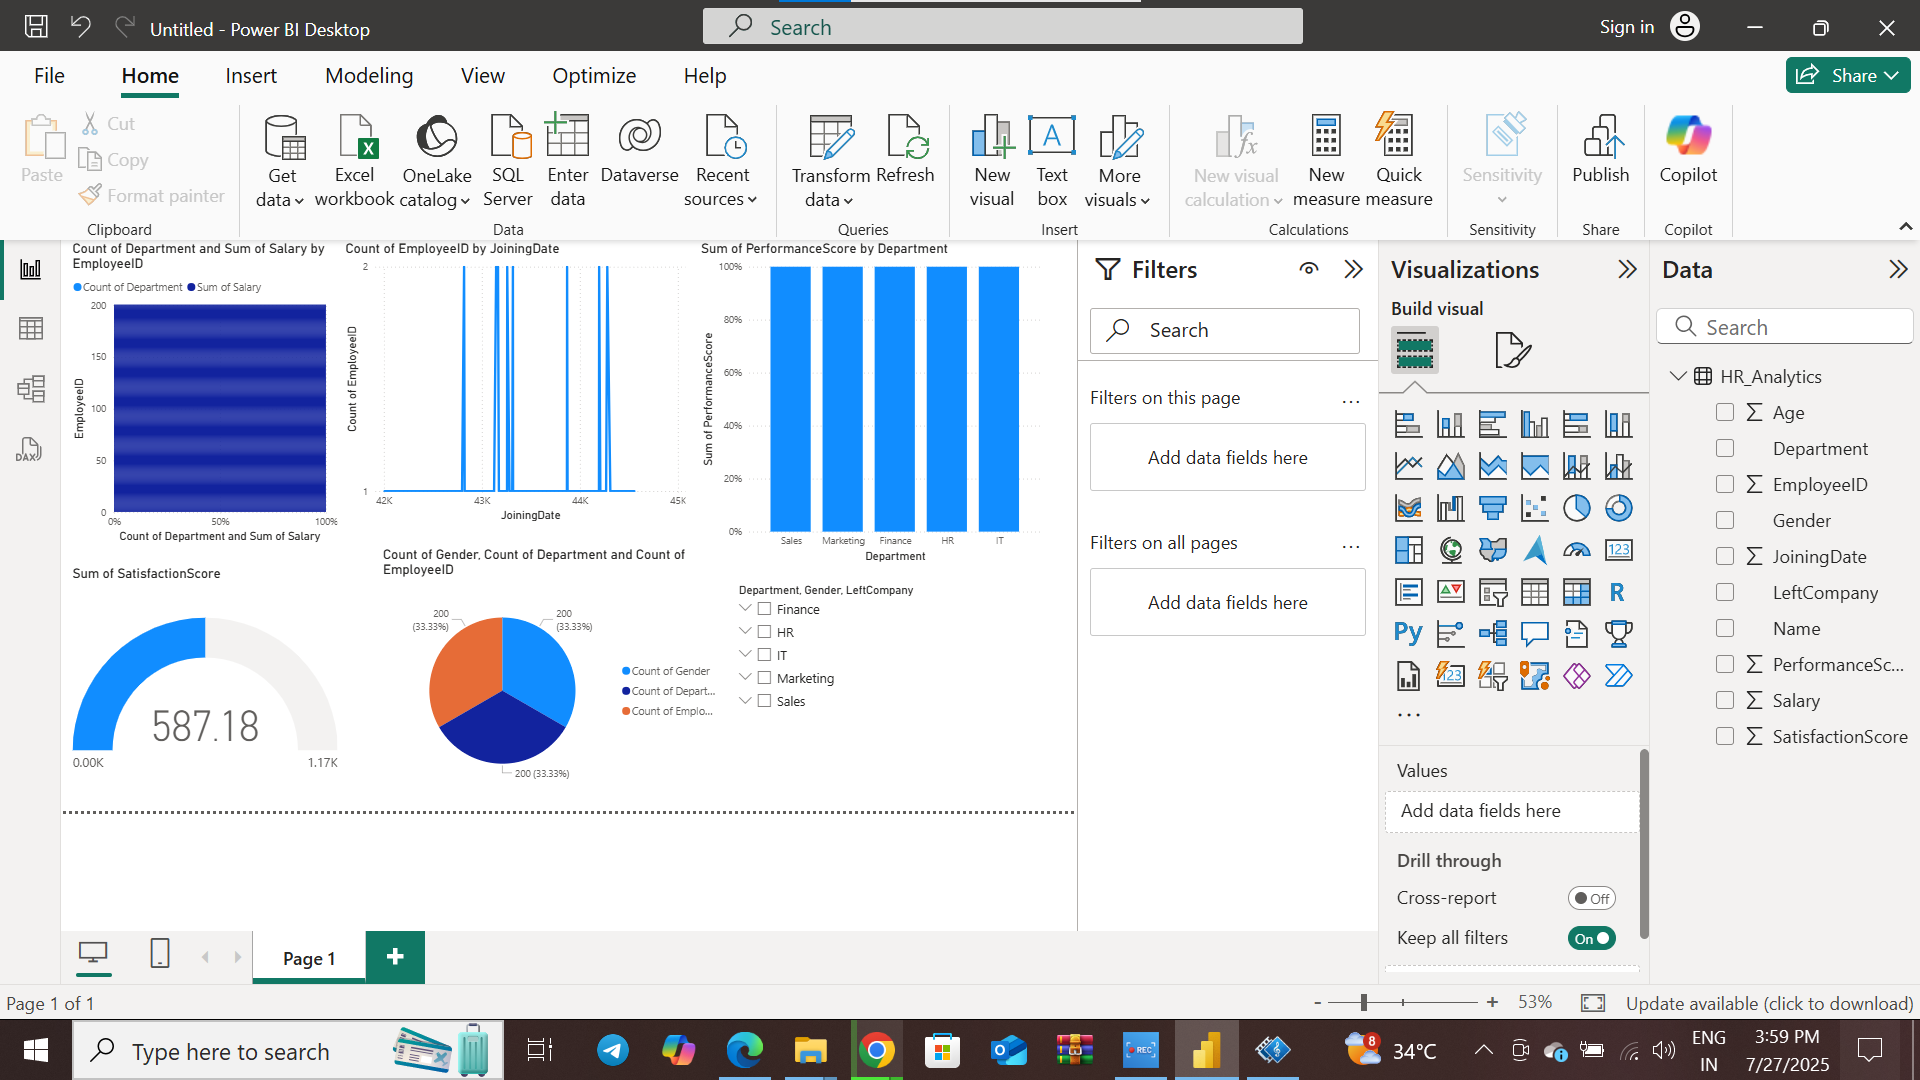

Layout of this report page (visuals, bound fields, positions):
{"tool":"powerbi","page":{"name":"Page 1","canvas":[1280,720],"ordinal":0},"visuals":[{"type":"hundredPercentStackedBarChart","fields":{"Y":["CountNonNull(HR_Analytics.Department)","Sum(HR_Analytics.Salary)"],"Category":["HR_Analytics.EmployeeID"]},"box":[9.4,0,343.9,385.5],"z":0},{"type":"pieChart","fields":{"Y":["CountNonNull(HR_Analytics.Gender)","CountNonNull(HR_Analytics.Department)","CountNonNull(HR_Analytics.EmployeeID)"]},"box":[400.6,385.5,440.3,325],"z":1},{"type":"lineChart","fields":{"Y":["CountNonNull(HR_Analytics.EmployeeID)"],"Category":["HR_Analytics.JoiningDate"]},"box":[353.4,0,438.4,359.1],"z":2},{"type":"hundredPercentStackedColumnChart","fields":{"Category":["HR_Analytics.Department"],"Y":["Sum(HR_Analytics.PerformanceScore)"]},"box":[801.3,0,438.4,410.1],"z":3},{"type":"gauge","fields":{"Y":["Sum(HR_Analytics.SatisfactionScore)"]},"box":[9.4,410.1,343.9,309.9],"z":4},{"type":"slicer","fields":{"Values":["HR_Analytics.Department","HR_Analytics.Gender","HR_Analytics.LeftCompany"]},"box":[841,427.1,438.4,281.6],"z":5}]}

Visuals, with their boxes on the page's 1280x720 design canvas (x1, y1, x2, y2). These are canvas units, not pixel positions in the 1920x1080 screenshot, which may show the page scaled, cropped or inside an application window:
hundredPercentStackedBarChart - CountNonNull(HR_Analytics.Department) x Sum(HR_Analytics.Salary): left=9, top=0, right=353, bottom=386
pieChart - CountNonNull(HR_Analytics.Gender) x CountNonNull(HR_Analytics.Department): left=401, top=386, right=841, bottom=710
lineChart - CountNonNull(HR_Analytics.EmployeeID) x HR_Analytics.JoiningDate: left=353, top=0, right=792, bottom=359
hundredPercentStackedColumnChart - HR_Analytics.Department x Sum(HR_Analytics.PerformanceScore): left=801, top=0, right=1240, bottom=410
gauge - Sum(HR_Analytics.SatisfactionScore): left=9, top=410, right=353, bottom=720
slicer - HR_Analytics.Department x HR_Analytics.Gender: left=841, top=427, right=1279, bottom=709
